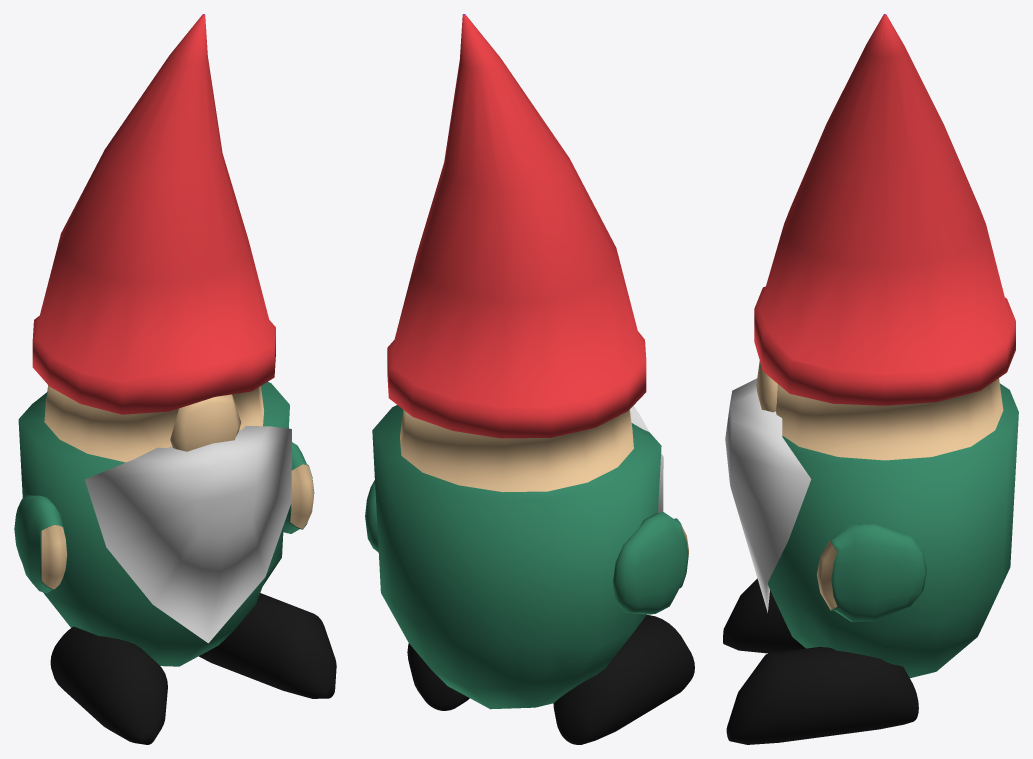
The model's file is garden_gnome3.fbx.
3 views of the same model, side by side, from view 1: azimuth 30°, elevation 25°; view 2: azimuth 150°, elevation 25°; view 3: azimuth 270°, elevation 25° (orthographic). The views are drawn at different scales.
Parts seen in each view (by area): view 1: Gnome3; view 2: Gnome3; view 3: Gnome3.
Boxes of the visible parts, x1,y1,x2,y2 form: Gnome3: (14, 14, 336, 744); Gnome3: (365, 14, 694, 744); Gnome3: (723, 14, 1018, 744).
Size of the model in its own units: 247 by 549 by 210.
